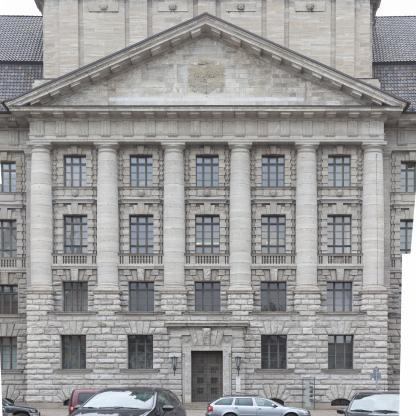Building Outline: (0, 0, 416, 416)
Cornice: (3, 12, 409, 111), (164, 322, 250, 327), (53, 199, 96, 204), (252, 199, 295, 204), (319, 199, 361, 204), (120, 199, 162, 204), (186, 199, 228, 204)
Deco: (89, 2, 119, 12), (158, 2, 188, 12), (226, 2, 256, 11), (295, 2, 325, 11), (71, 189, 80, 197), (137, 189, 146, 197), (335, 189, 344, 197), (269, 189, 277, 197), (203, 190, 212, 197)
Door: (191, 351, 223, 403)
Facade: (1, 111, 401, 410)
Floor: (0, 204, 415, 269), (0, 269, 401, 326)
Floor Slab: (0, 199, 415, 204), (0, 264, 401, 268), (1, 322, 400, 326)
Ground Floor: (0, 326, 400, 410)
Molding: (25, 118, 387, 139)
Pillar: (24, 141, 56, 312), (91, 141, 123, 312), (359, 141, 390, 312), (226, 141, 256, 312), (159, 141, 189, 312), (292, 141, 322, 311)
Roof: (0, 15, 44, 111), (372, 16, 416, 111)
Sill: (114, 311, 166, 315), (181, 311, 233, 315), (248, 311, 300, 315), (315, 311, 367, 315), (47, 311, 98, 315), (321, 370, 362, 373), (53, 370, 93, 373), (254, 370, 294, 373), (120, 370, 160, 373), (0, 314, 22, 317), (1, 371, 23, 373)
Top Floor: (0, 135, 415, 204)
Window: (328, 215, 353, 254), (63, 215, 88, 254), (129, 215, 154, 254), (195, 215, 220, 254), (261, 215, 286, 254), (328, 335, 354, 370), (261, 335, 287, 370), (127, 335, 153, 370), (60, 335, 86, 370), (327, 281, 353, 311), (62, 281, 88, 311), (129, 281, 155, 311), (194, 281, 220, 311), (260, 281, 286, 311), (328, 154, 351, 186), (63, 154, 86, 186), (130, 154, 153, 186), (196, 154, 219, 186), (261, 154, 284, 186), (1, 219, 17, 257), (1, 336, 17, 371), (0, 284, 18, 314), (0, 161, 16, 192), (64, 398, 84, 406), (264, 398, 284, 406), (331, 399, 352, 406)
dont: (68, 387, 187, 416), (205, 395, 311, 416), (337, 391, 400, 416), (2, 397, 41, 416)
object: (400, 219, 416, 257), (401, 161, 416, 192)
